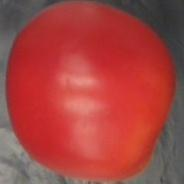unripe: (6, 0, 179, 184)
